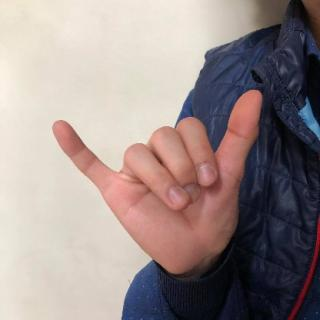YA: (49, 86, 266, 277)
